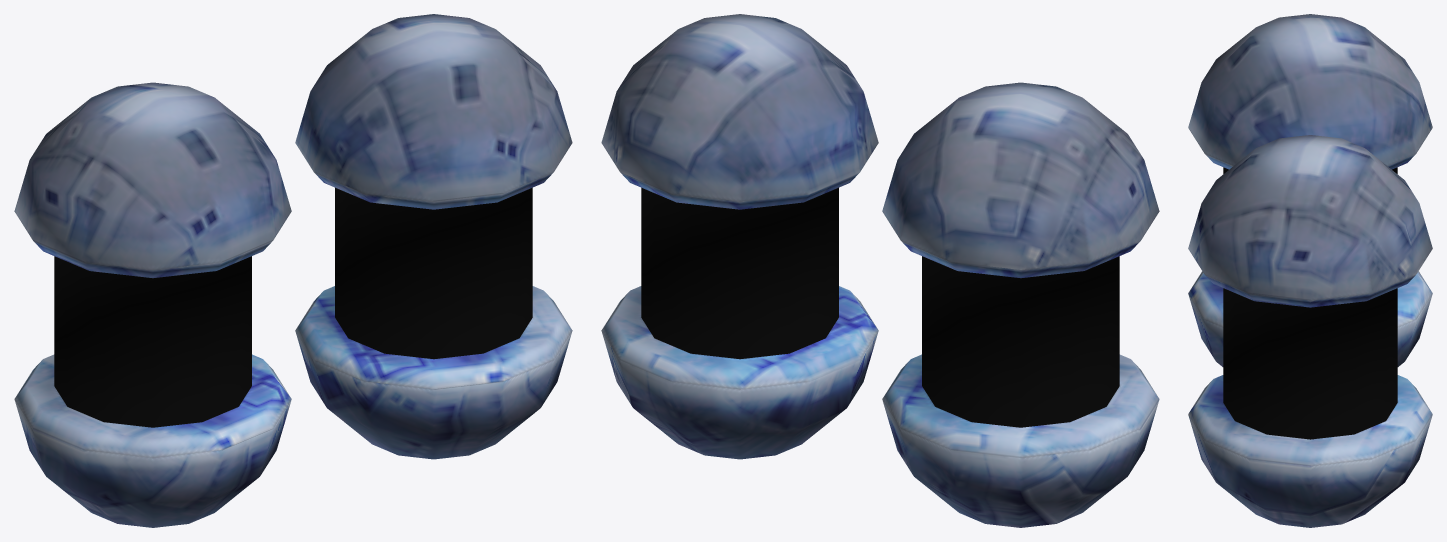
File: PowereUps Double.fbx
The picture shows the model from 3 angles, left to right: view 1: azimuth 30°, elevation 25°; view 2: azimuth 150°, elevation 25°; view 3: azimuth 270°, elevation 25°; orthographic projection. The views are drawn at different scales.
Parts seen in each view (by area): view 1: Sphere; view 2: Sphere; view 3: Sphere.
Boxes of the visible parts, x1=… form: Sphere: x1=14, y1=14, x2=572, y2=527; Sphere: x1=601, y1=14, x2=1159, y2=527; Sphere: x1=1188, y1=14, x2=1432, y2=527.
Size of the model in its own units: 184 by 142 by 84.83.
